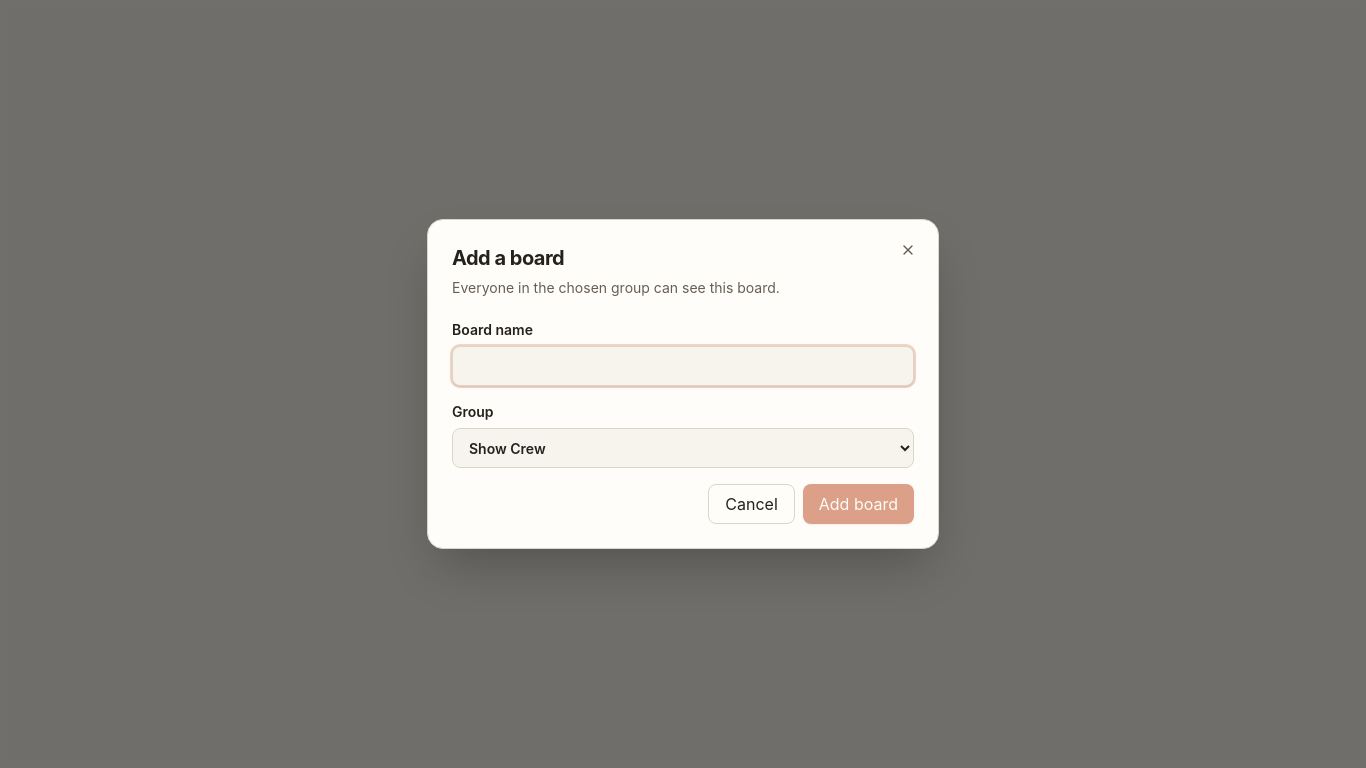
Scenario: create board › retains input when saving fails
Type "October" into the field labelled "Board name".
click(683, 366); type("October")  # box [452,346,914,386]
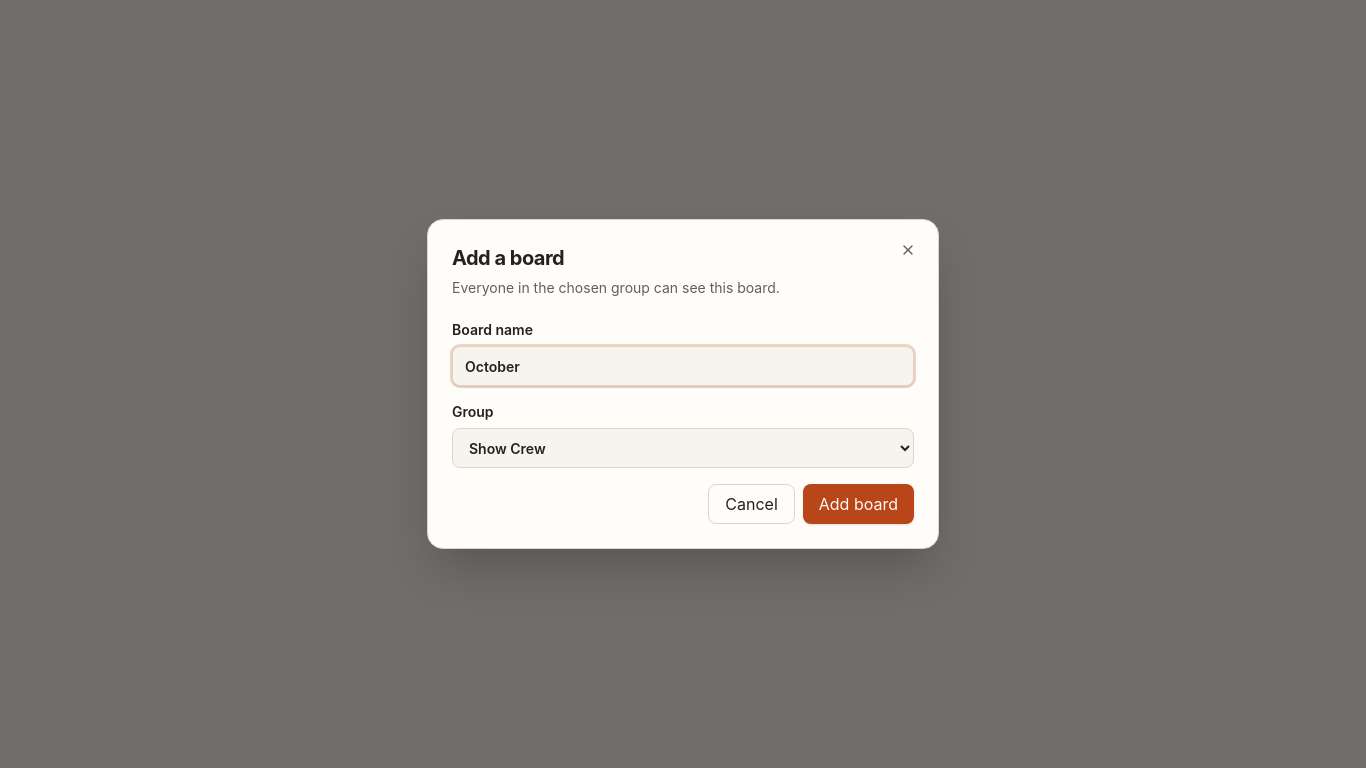
Click the button "Add board".
click(858, 504)  # box [803,484,914,524]
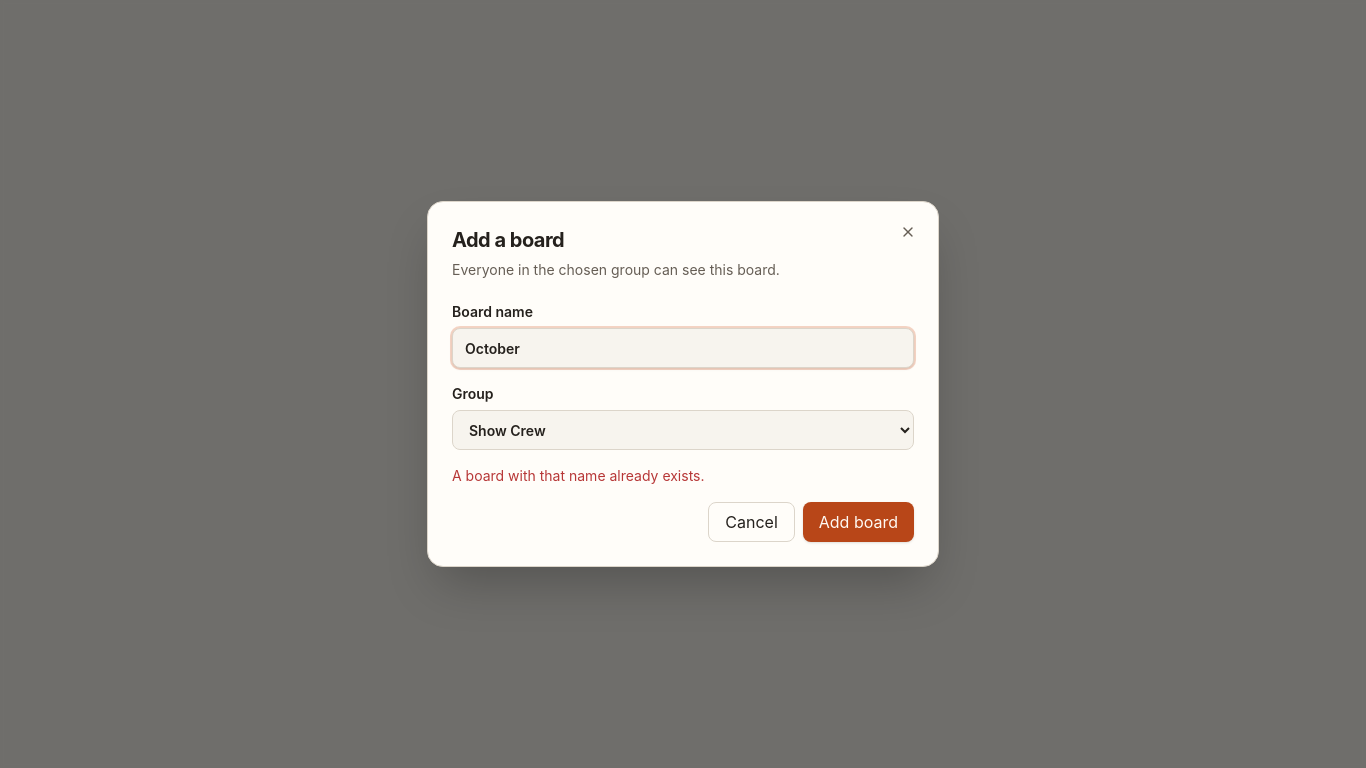
Check: the message shows "already exists", box [452,467,704,484]
